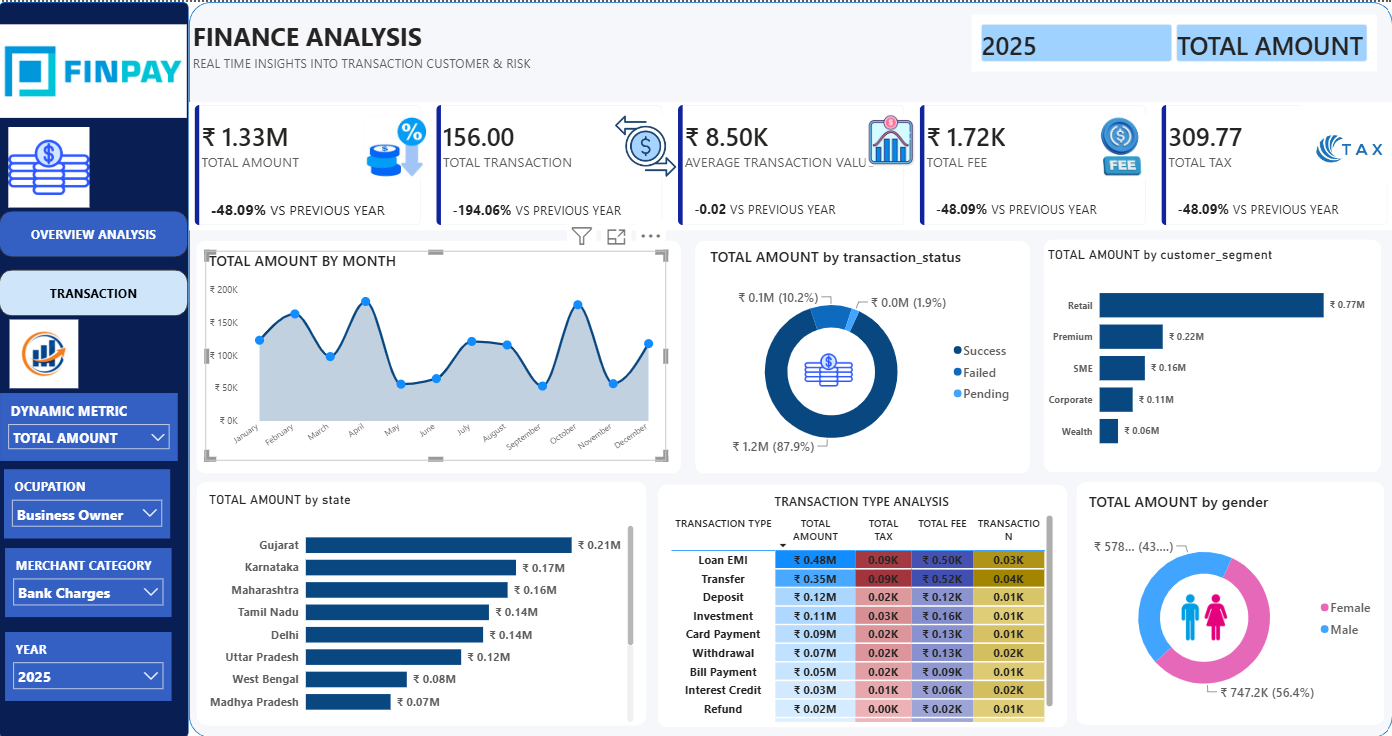

Layout of this report page (visuals, bound fields, positions):
{"tool":"powerbi","page":{"name":"OVERVIEW ANALYSIS","canvas":[1800,950],"ordinal":0},"visuals":[{"type":"shape","box":[0,0,244.8,950],"z":0},{"type":"shape","box":[244.8,0,1555.2,950],"z":1000},{"type":"cardVisual","fields":{"Data":["finance_transactions.TITLE"]},"box":[245.3,0,492.2,111.2],"z":3000},{"type":"cardVisual","fields":{"Data":["finance_transactions.TOTAL_AMOUNT","finance_transactions.TOTAL_TRANSACTION","finance_transactions.AVERAGE TRANSACTION VALUE","finance_transactions.TOTAL_FEE","finance_transactions.TOTAL_TAX"]},"box":[244.5,129.7,1555.2,165.5],"z":4000},{"type":"image","box":[434.5,144.8,158.6,82.8],"z":6000},{"type":"image","box":[1071,145.5,162.1,67.2],"z":7000},{"type":"image","box":[755.5,145.5,160.2,81.8],"z":8000},{"type":"image","box":[1378.5,145.5,143.9,83.4],"z":9000},{"type":"image","box":[1678.9,129.7,121,98.1],"z":10000},{"type":"slicer","fields":{"Values":["DYNAMIC METRIC.DYNAMIC METRIC"]},"box":[1.7,505.4,229.1,87.1],"z":11000},{"type":"shape","box":[254.4,308.5,625.3,300.3],"z":12000},{"type":"areaChart","title":"TOTAL AMOUNT BY MONTH","fields":{"Y":["finance_transactions.TOTAL AMOUNT"],"Category":["calendar.Month"]},"box":[265.9,321.7,595.7,270.8],"z":13000},{"type":"cardVisual","fields":{"Data":["finance_transactions.SELECTED YEAR","finance_transactions.SELECTED_DYNAMIC"]},"box":[1250.6,11.5,533.4,83.7],"z":14000},{"type":"shape","box":[899.3,308.5,431.6,300.3],"z":15000},{"type":"donutChart","fields":{"Y":["finance_transactions.TOTAL AMOUNT"],"Category":["finance_transactions.transaction_status"]},"box":[912.5,316.7,405.4,285.6],"z":16000},{"type":"shape","box":[1349,306.9,434.9,300.3],"z":17000},{"type":"barChart","fields":{"Category":["customers.customer_segment"],"Y":["finance_transactions.TOTAL_AMOUNT"]},"box":[1349,316.7,420.1,275.7],"z":18000},{"type":"shape","box":[254.4,620.4,581,313.5],"z":19000},{"type":"barChart","fields":{"Y":["finance_transactions.TOTAL_AMOUNT"],"Category":["customers.state"]},"box":[265.9,631.8,558,302],"z":20000},{"type":"shape","box":[850.1,622,528.4,313.5],"z":21000},{"type":"tableEx","title":"TRANSACTION TYPE ANALYSIS","fields":{"Values":["finance_transactions.transaction_type","finance_transactions.TOTAL_AMOUNT","finance_transactions.TOTAL_TAX","finance_transactions.TOTAL_FEE","finance_transactions.TOTAL_TRANSACTION"]},"box":[861.6,631.8,503.8,302],"z":22000},{"type":"shape","box":[1390,620.4,397.2,313.5],"z":23000},{"type":"donutChart","fields":{"Y":["finance_transactions.TOTAL AMOUNT"],"Category":["customers.gender"]},"box":[1401.5,631.8,382.4,288.8],"z":24000},{"type":"image","box":[1025.7,444.3,89.2,62.8],"z":25000},{"type":"image","box":[1473.7,754.9,165.8,78.8],"z":26000},{"type":"image","box":[1679,139.7,121,98.1],"z":27000},{"type":"slicer","fields":{"Values":["finance_transactions.merchant_category"]},"box":[8.3,705.3,214.3,89],"z":29000},{"type":"pageNavigator","box":[0,269.2,244.5,137.9],"z":30000},{"type":"slicer","fields":{"Values":["customers.occupation"]},"box":[6.6,602.9,214.3,89],"z":30001},{"type":"slicer","fields":{"Values":["calendar.YEAR"]},"box":[8.3,812.6,214.3,89],"z":30002},{"type":"image","box":[0,0,242.8,178.4],"z":30004},{"type":"image","box":[0,409.6,115.6,89.2],"z":30005},{"type":"image","box":[0,161.9,128.8,104.1],"z":30006}]}

Visuals, with their boxes on the page's 1800x950 design canvas (x1, y1, x2, y2). These are canvas units, not pixel positions in the 1392x736 screenshot, which may show the page scaled, cropped or inside an application window:
shape: box(0, 0, 245, 950)
shape: box(245, 0, 1800, 950)
cardVisual - finance_transactions.TITLE: box(245, 0, 738, 111)
cardVisual - finance_transactions.TOTAL_AMOUNT x finance_transactions.TOTAL_TRANSACTION: box(244, 130, 1800, 295)
image: box(434, 145, 593, 228)
image: box(1071, 146, 1233, 213)
image: box(756, 146, 916, 227)
image: box(1378, 146, 1522, 229)
image: box(1679, 130, 1800, 228)
slicer - DYNAMIC METRIC.DYNAMIC METRIC: box(2, 505, 231, 592)
shape: box(254, 308, 880, 609)
"TOTAL AMOUNT BY MONTH" areaChart: box(266, 322, 862, 592)
cardVisual - finance_transactions.SELECTED YEAR x finance_transactions.SELECTED_DYNAMIC: box(1251, 12, 1784, 95)
shape: box(899, 308, 1331, 609)
donutChart - finance_transactions.TOTAL AMOUNT x finance_transactions.transaction_status: box(912, 317, 1318, 602)
shape: box(1349, 307, 1784, 607)
barChart - customers.customer_segment x finance_transactions.TOTAL_AMOUNT: box(1349, 317, 1769, 592)
shape: box(254, 620, 835, 934)
barChart - finance_transactions.TOTAL_AMOUNT x customers.state: box(266, 632, 824, 934)
shape: box(850, 622, 1378, 936)
"TRANSACTION TYPE ANALYSIS" tableEx: box(862, 632, 1365, 934)
shape: box(1390, 620, 1787, 934)
donutChart - finance_transactions.TOTAL AMOUNT x customers.gender: box(1402, 632, 1784, 921)
image: box(1026, 444, 1115, 507)
image: box(1474, 755, 1640, 834)
image: box(1679, 140, 1800, 238)
slicer - finance_transactions.merchant_category: box(8, 705, 223, 794)
pageNavigator: box(0, 269, 244, 407)
slicer - customers.occupation: box(7, 603, 221, 692)
slicer - calendar.YEAR: box(8, 813, 223, 902)
image: box(0, 0, 243, 178)
image: box(0, 410, 116, 499)
image: box(0, 162, 129, 266)
